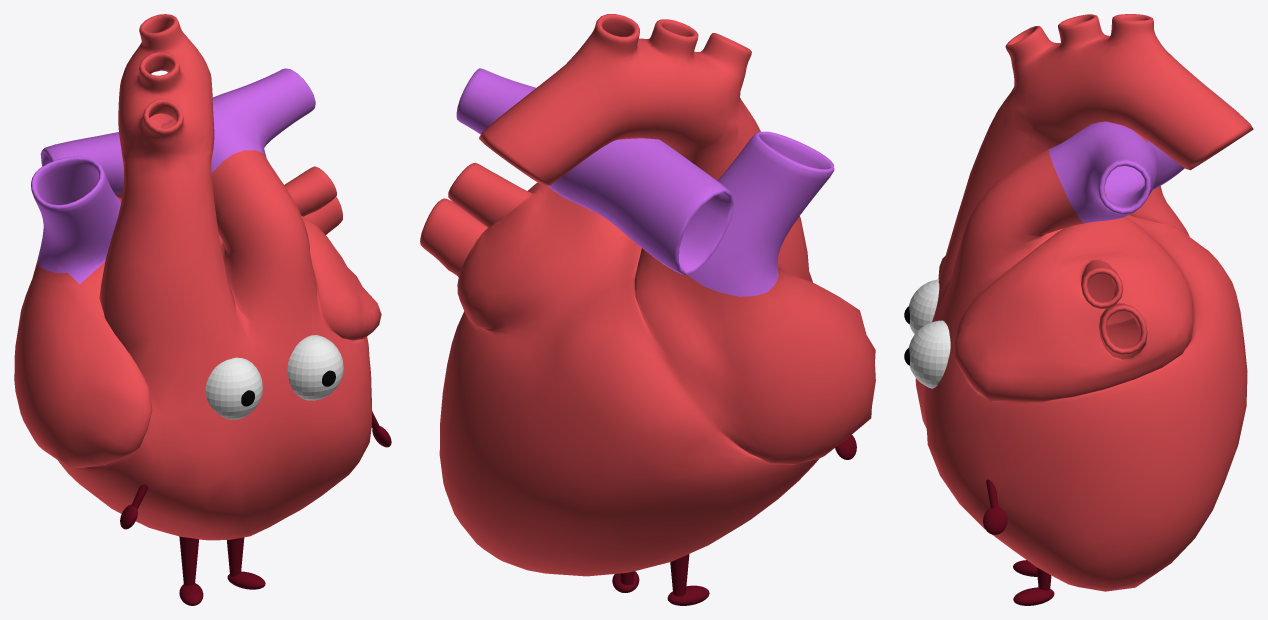
File: HEALTHY heart characters.fbx
3 views of the same model, side by side, from view 1: azimuth 30°, elevation 25°; view 2: azimuth 150°, elevation 25°; view 3: azimuth 270°, elevation 25° (orthographic). The views are drawn at different scales.
Parts seen in each view (by area): view 1: heart obj, mata.001, mata, paa.001, legs, kamay.001; view 2: heart obj, paa.001; view 3: heart obj, mata.001, mata, legs, kamay.
Boxes of the visible parts, left/top/right/bottom form: heart obj: left=14, top=14, right=381, bottom=540; mata.001: left=287, top=335, right=343, bottom=400; mata: left=205, top=357, right=262, bottom=419; paa.001: left=179, top=536, right=203, bottom=605; legs: left=227, top=537, right=265, bottom=589; kamay.001: left=120, top=484, right=147, bottom=529; heart obj: left=420, top=14, right=875, bottom=576; paa.001: left=667, top=554, right=709, bottom=605; heart obj: left=915, top=14, right=1253, bottom=591; mata.001: left=904, top=320, right=950, bottom=388; mata: left=904, top=279, right=939, bottom=334; legs: left=1013, top=567, right=1054, bottom=605; kamay: left=983, top=479, right=1007, bottom=534.
Size of the model in its own units: 1184 by 1795 by 998.
